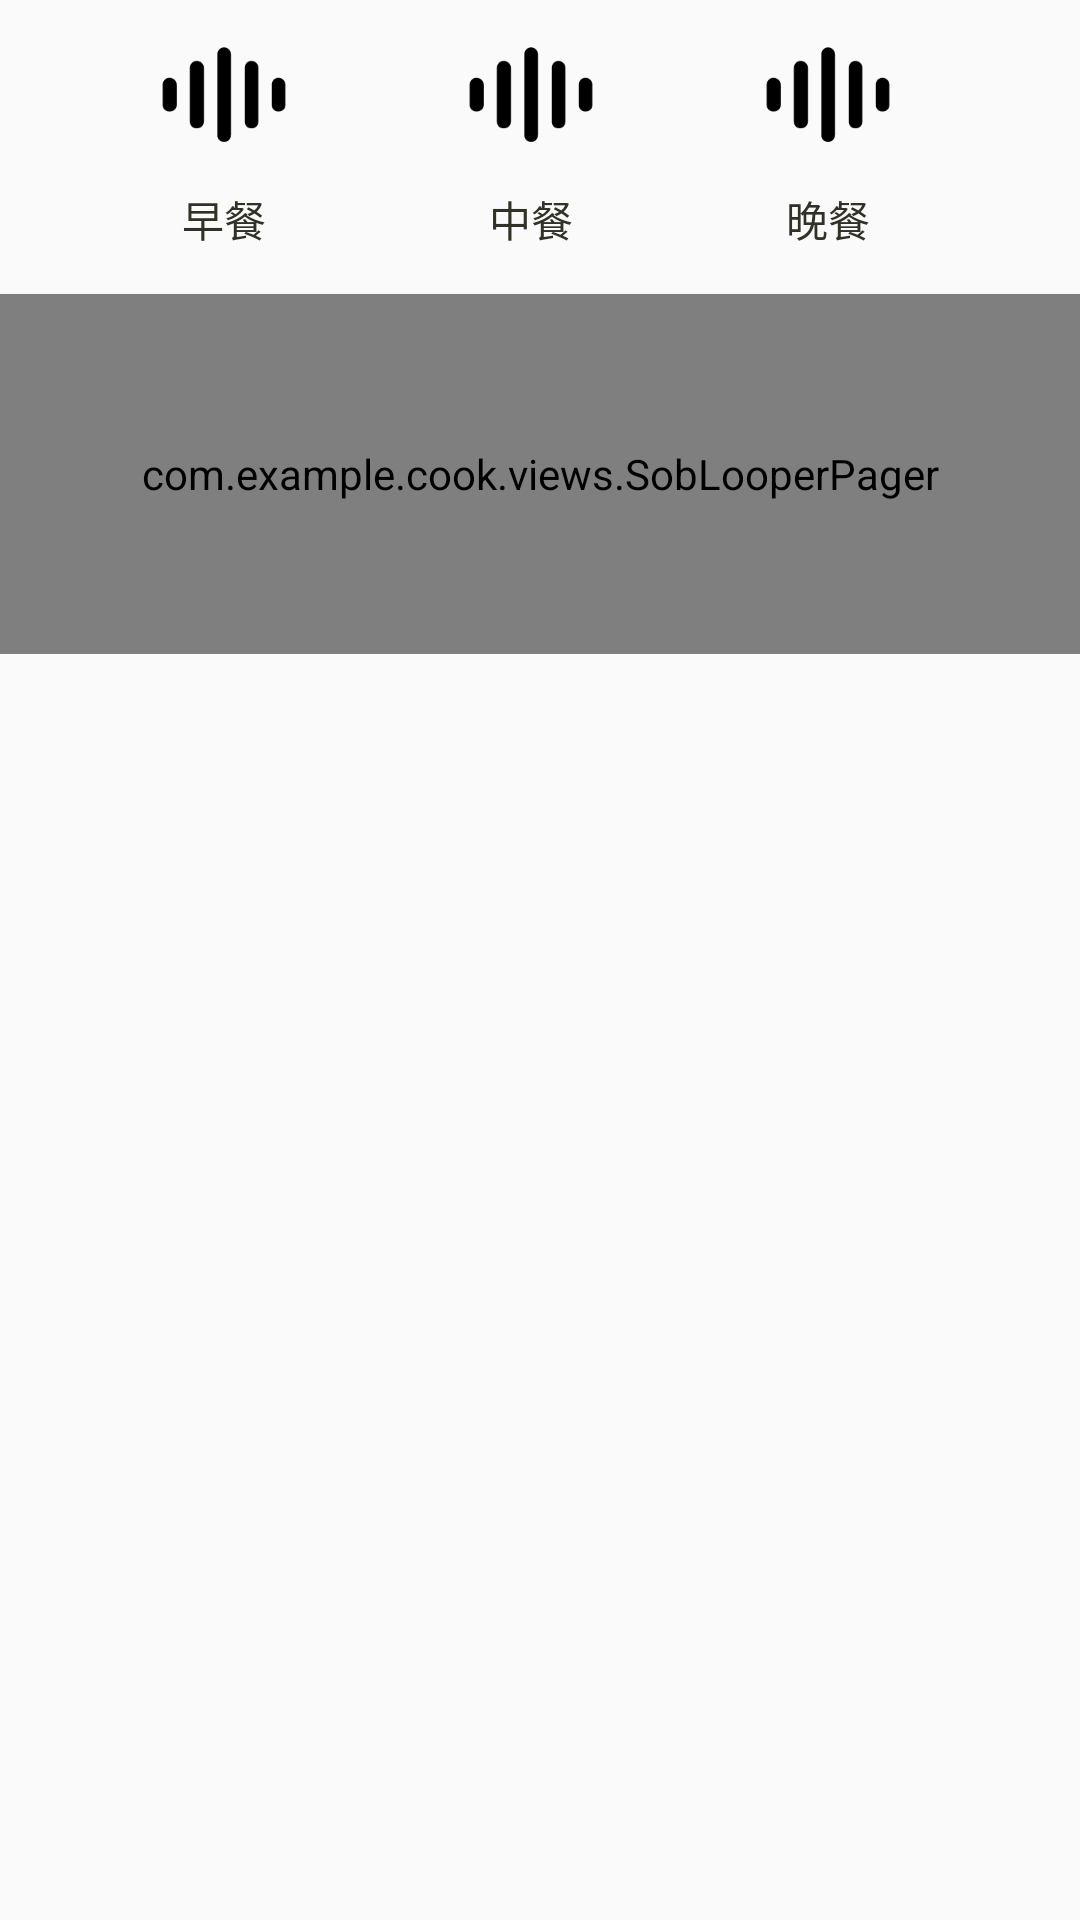

Icon click points for this 1080×1920 phone screenshot, format (x=x, y=y):
iconfont voice: (x=224, y=94), (x=531, y=94), (x=828, y=94)
